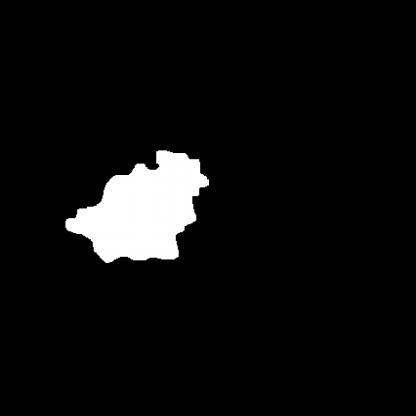malignant: (64, 138, 212, 284)
